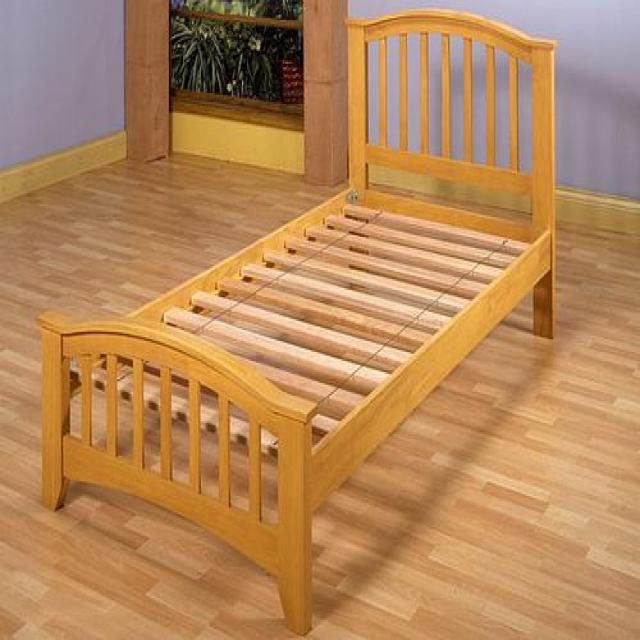bed: (37, 8, 557, 634)
